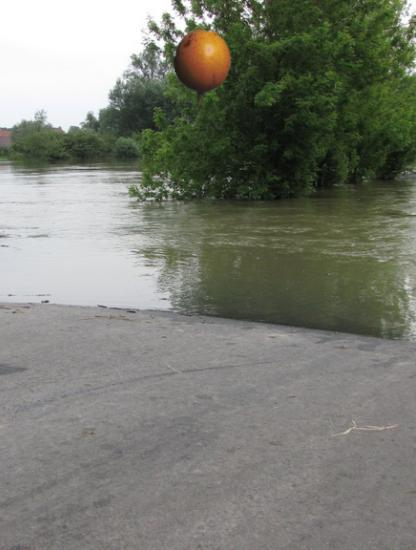Granadilla: (157, 28, 245, 116)
